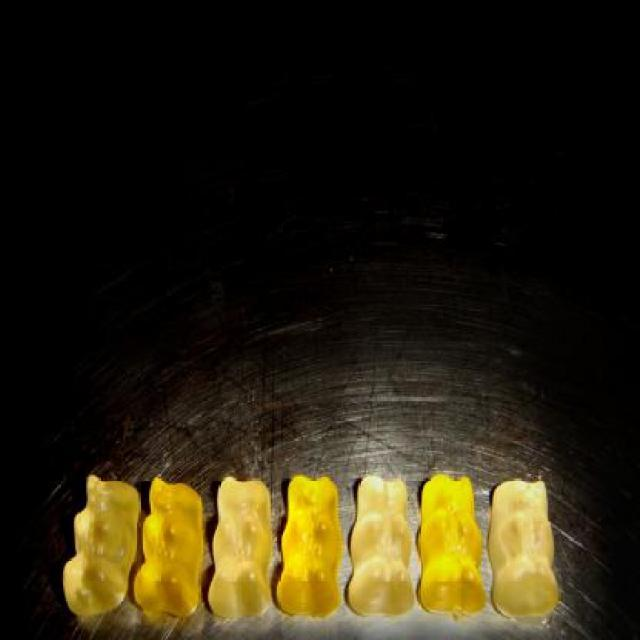Candy: (62, 472, 140, 616), (417, 470, 486, 618), (134, 472, 203, 616), (487, 478, 559, 616), (347, 471, 415, 617), (207, 473, 273, 619), (277, 482, 343, 624)
